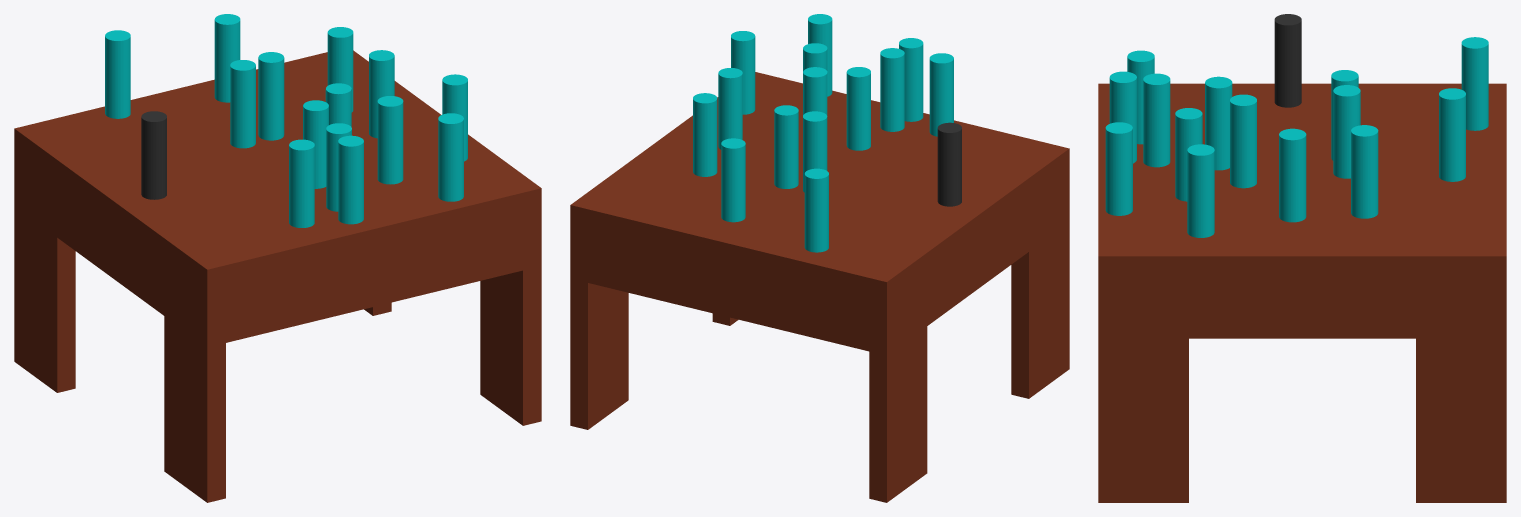
Rendered from can_world.dae.
3 renders of one model, left to right at view 1: azimuth 30°, elevation 25°; view 2: azimuth 150°, elevation 25°; view 3: azimuth 270°, elevation 25°, orthographic. The views are drawn at different scales.
Visible parts, largest first — view 1: base (×19); view 2: base (×19); view 3: base (×18).
Part boxes in pixels (left/top/right/bottom): base (×19): left=14, top=14, right=541, bottom=502; base (×19): left=570, top=14, right=1069, bottom=502; base (×18): left=1098, top=14, right=1506, bottom=502.
Size of the model in its own units: 0.9 by 0.9 by 0.811.
